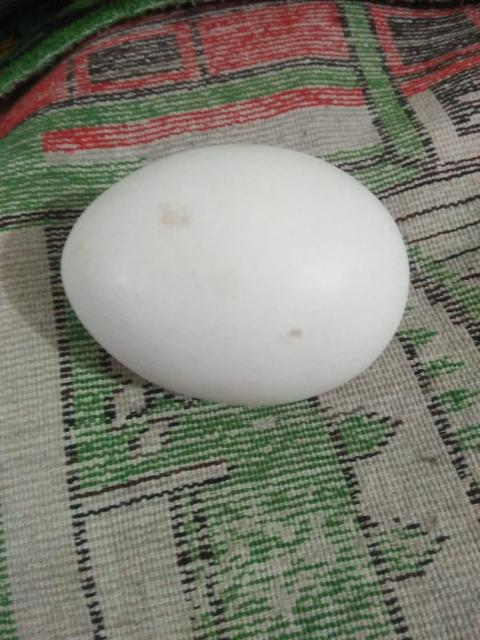Sano: (61, 144, 409, 409)
